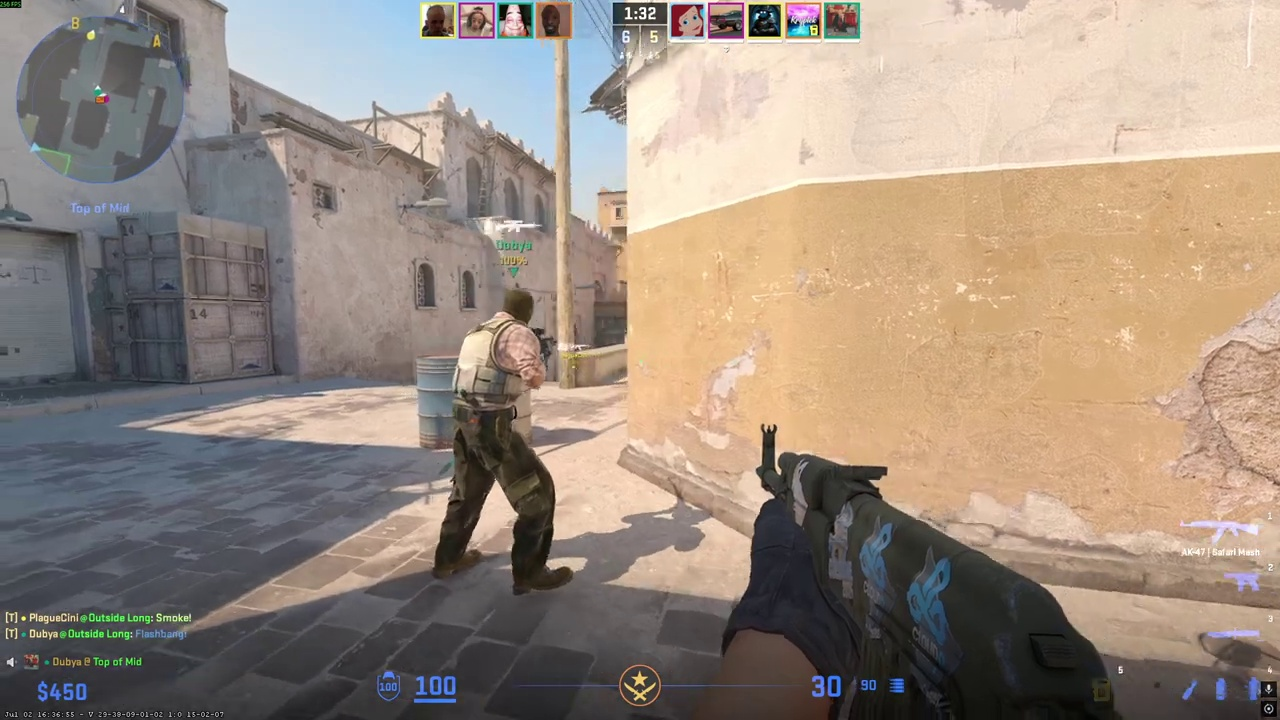Terrorist: (441, 289, 564, 596)
